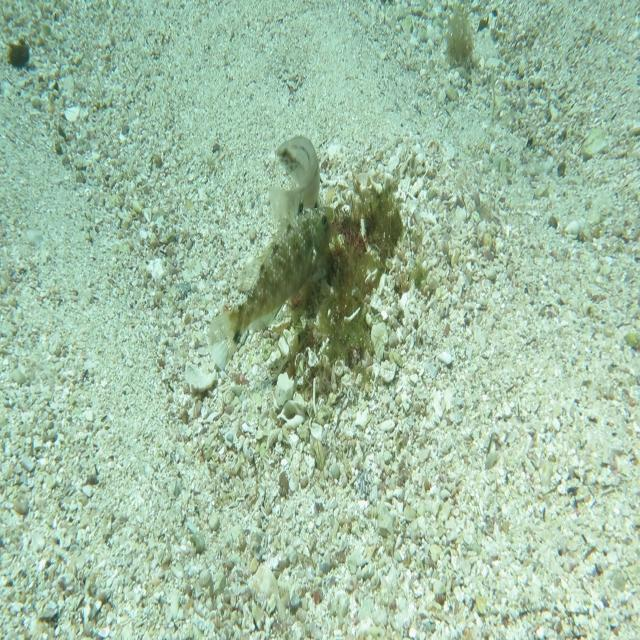core_nest: (330, 205, 389, 262)
female: (206, 191, 334, 371), (268, 134, 321, 225)
nest: (268, 166, 412, 406)
